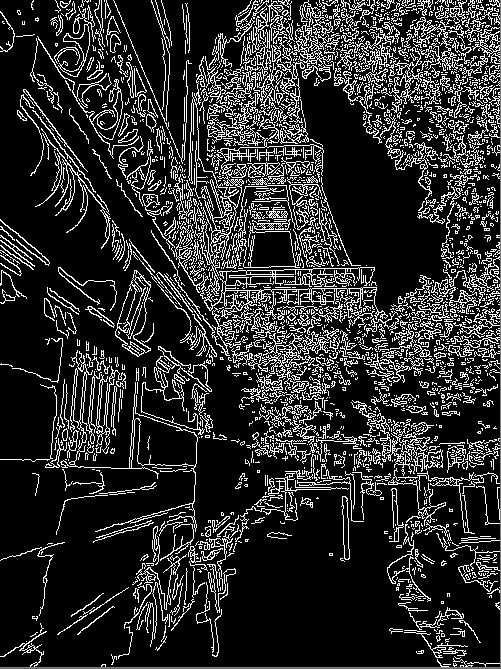eiffel tower: (211, 13, 382, 318)
